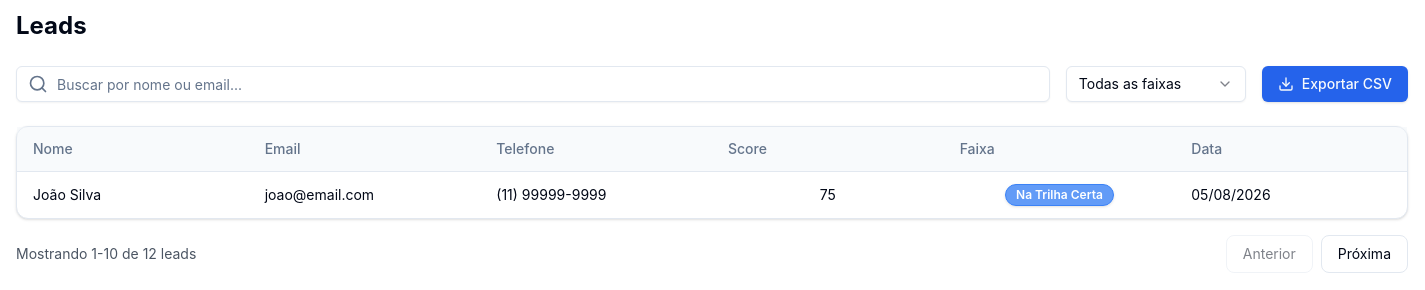
AdminLeads › should paginate to the next page
The image size is (1425, 290).
Expected: the text "João Silva" is shown, 17,172 -> 249,218
Click the button "Próxima" at [1364, 254], box 1321,235 -> 1408,273
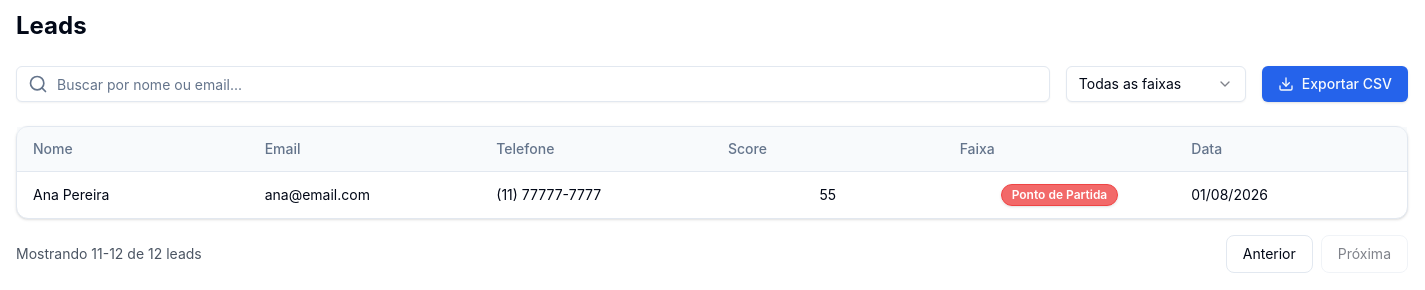
Expected: the text "Ana Pereira" is shown, 17,172 -> 249,218
Expected: the button "Próxima" is disabled, 1321,235 -> 1408,273
